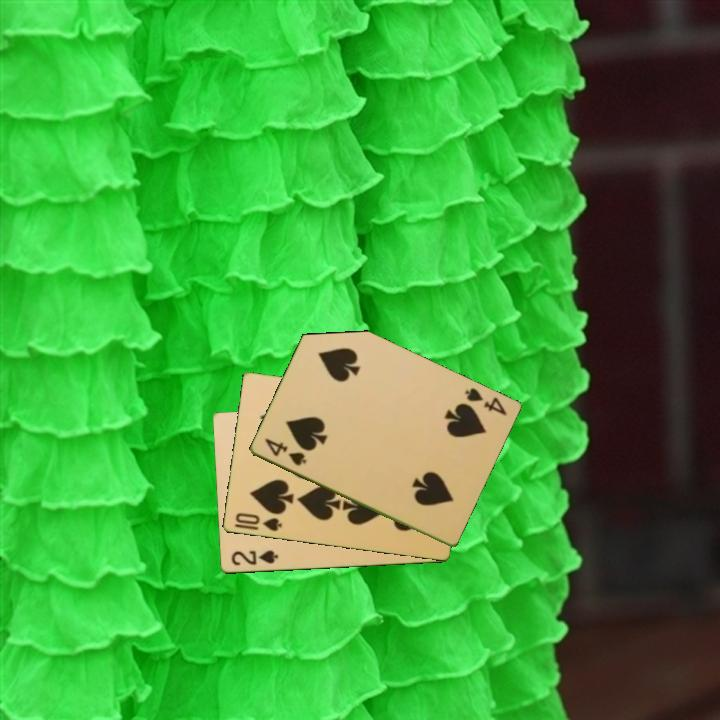10s: (232, 509, 284, 534)
2s: (227, 547, 280, 569)
4s: (461, 384, 509, 419), (260, 435, 309, 469)
